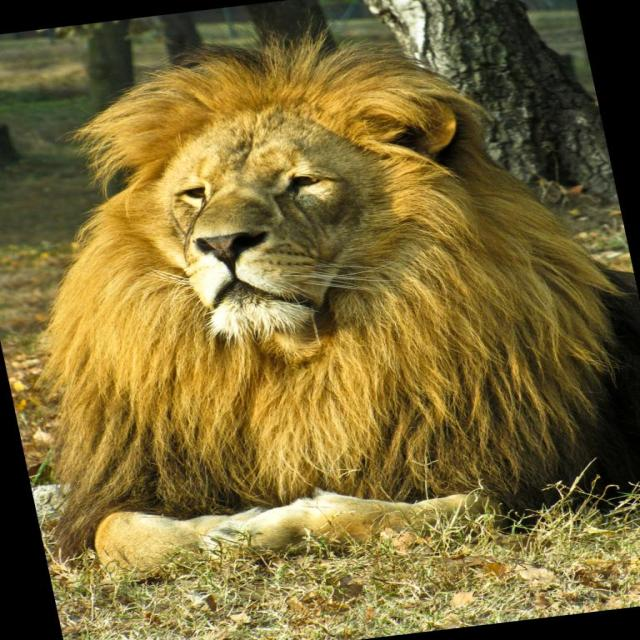Lion: (0, 0, 639, 594)
